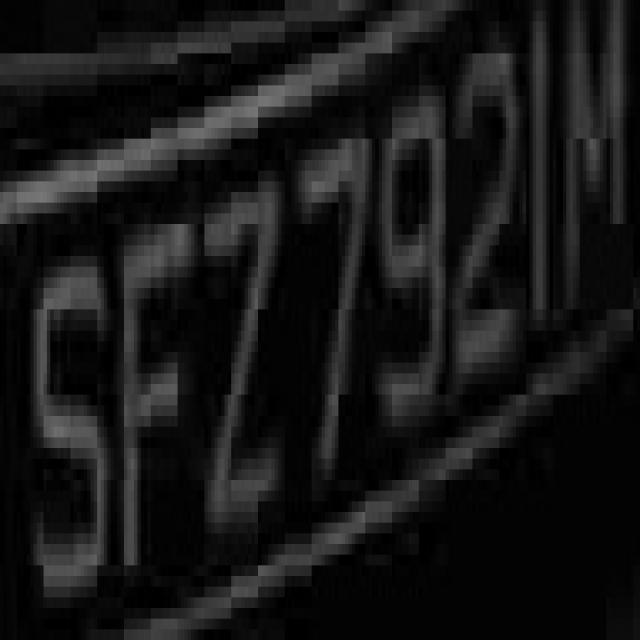1: (526, 32, 556, 395)
2: (442, 32, 520, 384)
7: (298, 96, 372, 512)
9: (372, 64, 439, 437)
F: (120, 192, 188, 619)
M: (560, 43, 636, 373)
S: (23, 224, 108, 608)
Z: (194, 138, 285, 586)
